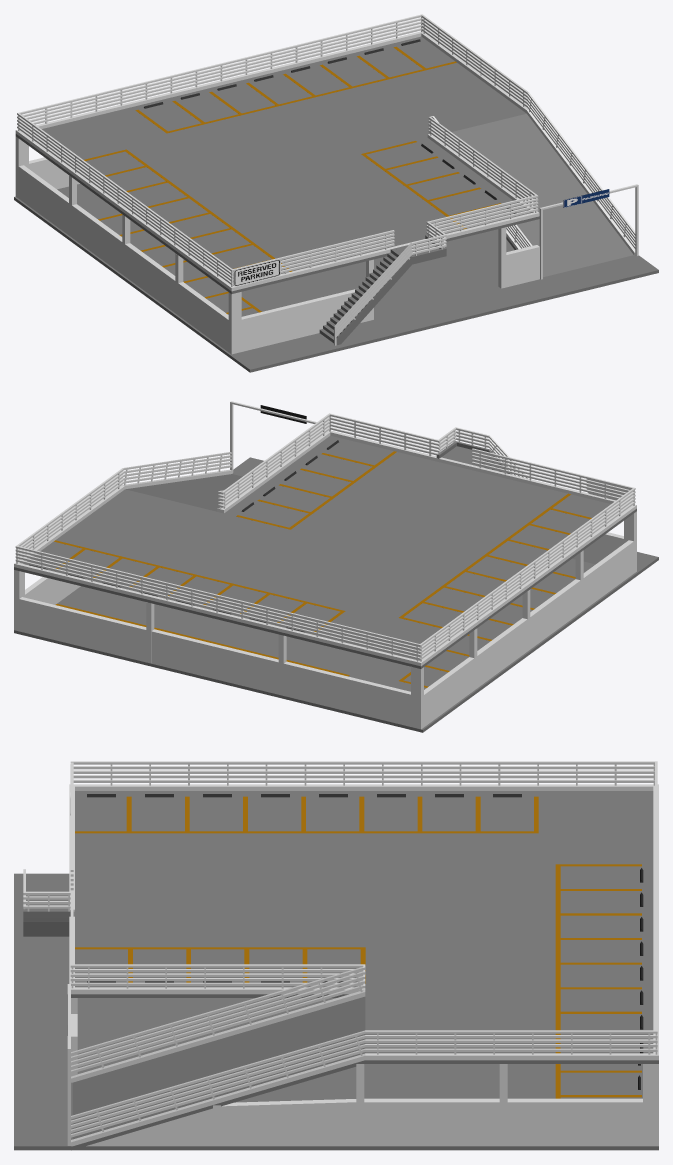
Rendered from car-parking.fbx.
3 views of the same model, one above another, from view 1: azimuth 30°, elevation 25°; view 2: azimuth 150°, elevation 25°; view 3: azimuth 270°, elevation 25° (orthographic). The views are drawn at different scales.
Parts seen in each view (by area): view 1: Cube.009, Cube, Cube.006, Cube.020, Cube.019, Cube.017, Cube.005, Cube.011, Cube.001, Cube.022, Cube.021, Cube.018 (+17 smaller); view 2: Cube.009, Cube, Cube.008, Cube.006, Cube.020, Cube.017, Cube.019, Cube.011, Cube.001, Cube.018, Cube.021, Cube.013 (+16 smaller); view 3: Cube.009, Cube, Cube.007, Cube.019, Cube.023, Cube.022, Cube.021, Cube.018, Cube.010, Cube.003, Cube.012, Cube.015 (+17 smaller).
Boxes of the visible parts, x1=… form: Cube.009: x1=15, y1=36, x2=633, y2=294; Cube: x1=14, y1=183, x2=658, y2=372; Cube.006: x1=18, y1=165, x2=228, y2=351; Cube.020: x1=19, y1=14, x2=422, y2=124; Cube.019: x1=17, y1=112, x2=233, y2=285; Cube.017: x1=233, y1=195, x2=538, y2=282; Cube.005: x1=241, y1=288, x2=368, y2=351; Cube.011: x1=36, y1=31, x2=423, y2=128; Cube.001: x1=15, y1=136, x2=236, y2=354; Cube.022: x1=527, y1=92, x2=635, y2=248; Cube.021: x1=421, y1=15, x2=528, y2=107; Cube.018: x1=428, y1=116, x2=536, y2=208; Cube.009: x1=14, y1=435, x2=636, y2=668; Cube: x1=14, y1=457, x2=658, y2=732; Cube.008: x1=19, y1=597, x2=410, y2=726; Cube.006: x1=424, y1=540, x2=633, y2=726; Cube.020: x1=15, y1=545, x2=419, y2=659; Cube.017: x1=328, y1=413, x2=633, y2=499; Cube.019: x1=419, y1=487, x2=635, y2=660; Cube.011: x1=14, y1=562, x2=419, y2=665; Cube.001: x1=416, y1=511, x2=636, y2=729; Cube.018: x1=221, y1=414, x2=329, y2=507; Cube.021: x1=17, y1=468, x2=124, y2=559; Cube.013: x1=327, y1=430, x2=615, y2=503; Cube.009: x1=71, y1=791, x2=658, y2=1146; Cube: x1=14, y1=873, x2=658, y2=1150; Cube.007: x1=86, y1=1098, x2=642, y2=1146; Cube.019: x1=70, y1=761, x2=657, y2=782; Cube.023: x1=71, y1=965, x2=365, y2=1073; Cube.022: x1=71, y1=1030, x2=365, y2=1137; Cube.021: x1=365, y1=1030, x2=654, y2=1051; Cube.018: x1=73, y1=964, x2=365, y2=985; Cube.010: x1=69, y1=784, x2=658, y2=790; Cube.003: x1=213, y1=1064, x2=650, y2=1146; Cube.012: x1=365, y1=1053, x2=653, y2=1060; Cube.015: x1=71, y1=1053, x2=365, y2=1146.
Bounding box in the file's own units: 2474 × 506 × 2474.
Materials: 8 (2 with a texture image).
